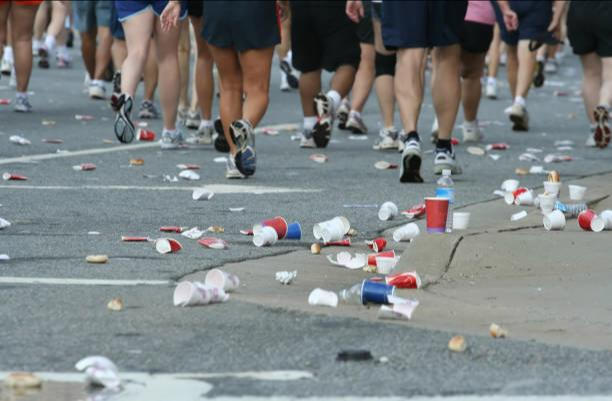trash: (72, 347, 133, 398), (425, 168, 469, 228), (337, 281, 402, 307), (418, 187, 447, 235), (382, 288, 417, 324), (320, 250, 371, 274), (448, 188, 468, 248), (390, 218, 429, 247), (178, 281, 224, 305), (308, 216, 354, 239), (207, 264, 244, 292), (368, 245, 400, 277), (388, 264, 424, 292), (253, 214, 290, 241), (487, 172, 522, 200), (154, 234, 188, 262), (0, 372, 42, 394), (554, 200, 594, 221), (504, 182, 536, 208), (400, 194, 424, 228), (540, 209, 566, 240), (360, 236, 393, 260), (175, 162, 207, 184), (144, 168, 179, 188), (486, 318, 512, 344), (536, 192, 560, 220), (552, 80, 584, 101), (304, 289, 335, 310), (80, 250, 118, 266), (307, 146, 335, 167), (203, 230, 232, 250), (120, 152, 148, 172), (568, 177, 588, 205), (584, 207, 602, 238), (256, 222, 279, 246), (444, 332, 467, 355), (284, 218, 306, 242), (0, 206, 21, 231), (110, 229, 150, 242), (102, 294, 128, 314), (538, 174, 558, 200), (515, 160, 547, 176), (342, 198, 378, 212), (70, 161, 102, 176), (208, 216, 232, 236), (369, 158, 402, 172), (544, 153, 582, 165), (276, 266, 301, 284), (38, 114, 68, 128), (516, 150, 544, 165), (187, 186, 209, 205), (377, 201, 393, 226), (507, 208, 528, 227), (0, 168, 28, 182), (550, 134, 578, 148), (184, 222, 207, 239), (322, 234, 351, 247), (0, 241, 15, 266), (350, 125, 372, 142), (486, 138, 516, 150), (276, 119, 298, 135), (136, 127, 154, 145), (228, 199, 248, 215), (160, 221, 189, 232), (288, 128, 308, 143), (487, 150, 510, 162), (240, 222, 256, 238), (7, 136, 32, 146), (261, 126, 280, 139), (210, 154, 232, 165), (312, 238, 324, 258), (602, 204, 612, 228), (468, 144, 487, 156), (38, 136, 63, 145), (176, 135, 192, 149), (524, 142, 542, 154), (73, 112, 94, 122), (132, 118, 150, 128), (86, 228, 104, 236), (2, 94, 12, 105), (96, 116, 114, 122), (102, 138, 118, 144), (25, 88, 39, 94)
